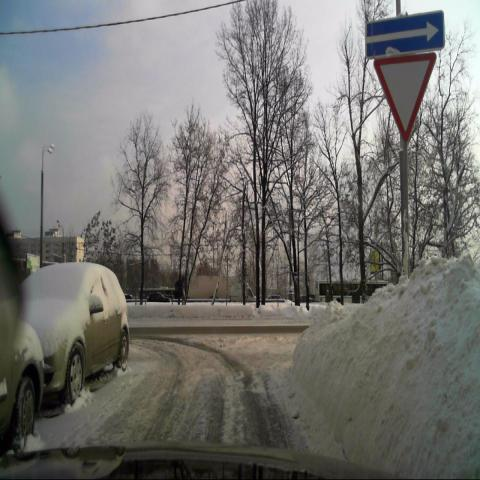5_7_1: (364, 12, 444, 60)
